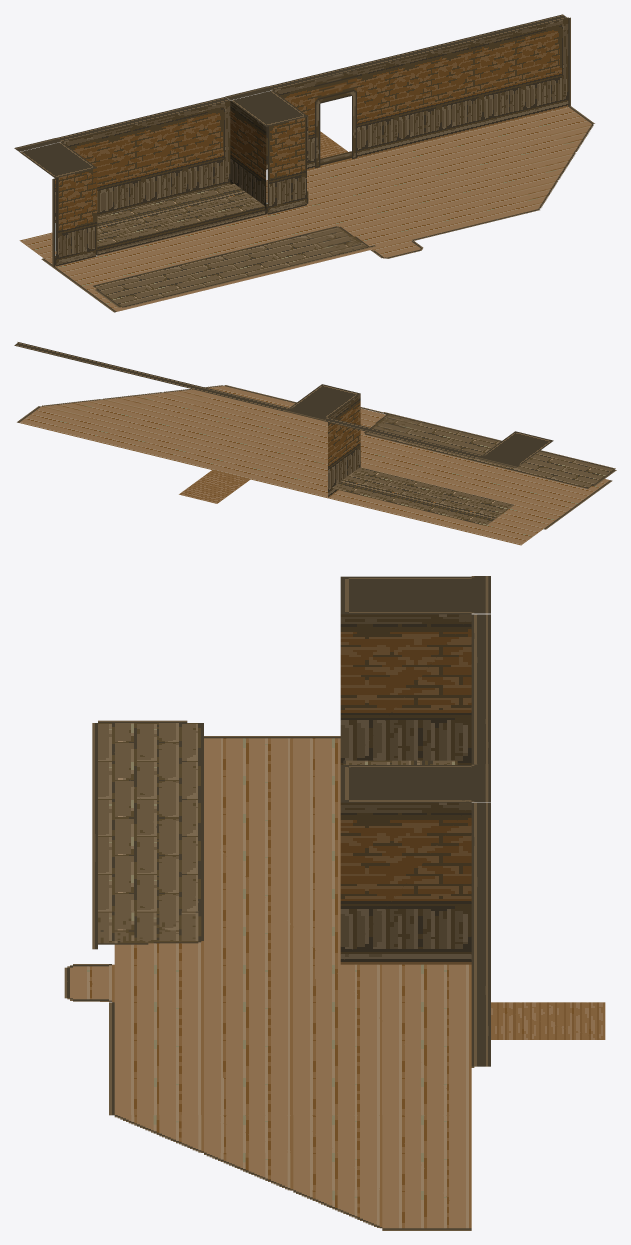
File: Cafe_Town.gltf
3 renders of one model, top to bottom at view 1: azimuth 30°, elevation 25°; view 2: azimuth 150°, elevation 25°; view 3: azimuth 270°, elevation 25°, orthographic. The views are drawn at different scales.
Parts seen in each view (by area): view 1: walls-col, floor-col, pallettes-col, default; view 2: floor-col, pallettes-col, walls-col; view 3: floor-col, walls-col, pallettes-col.
Boxes of the visible parts, x1,y1,x2,y2 form: walls-col: (14, 14, 570, 267); floor-col: (19, 106, 594, 312); pallettes-col: (93, 183, 368, 307); default: (315, 70, 356, 168); floor-col: (17, 385, 615, 545); pallettes-col: (332, 414, 616, 525); walls-col: (14, 342, 553, 497); floor-col: (64, 723, 605, 1230); walls-col: (340, 576, 490, 1067); pallettes-col: (98, 720, 457, 944).
Bounding box in the file's own units: 26.25 × 4.01 × 13.
Materials: 16 (16 with a texture image).
